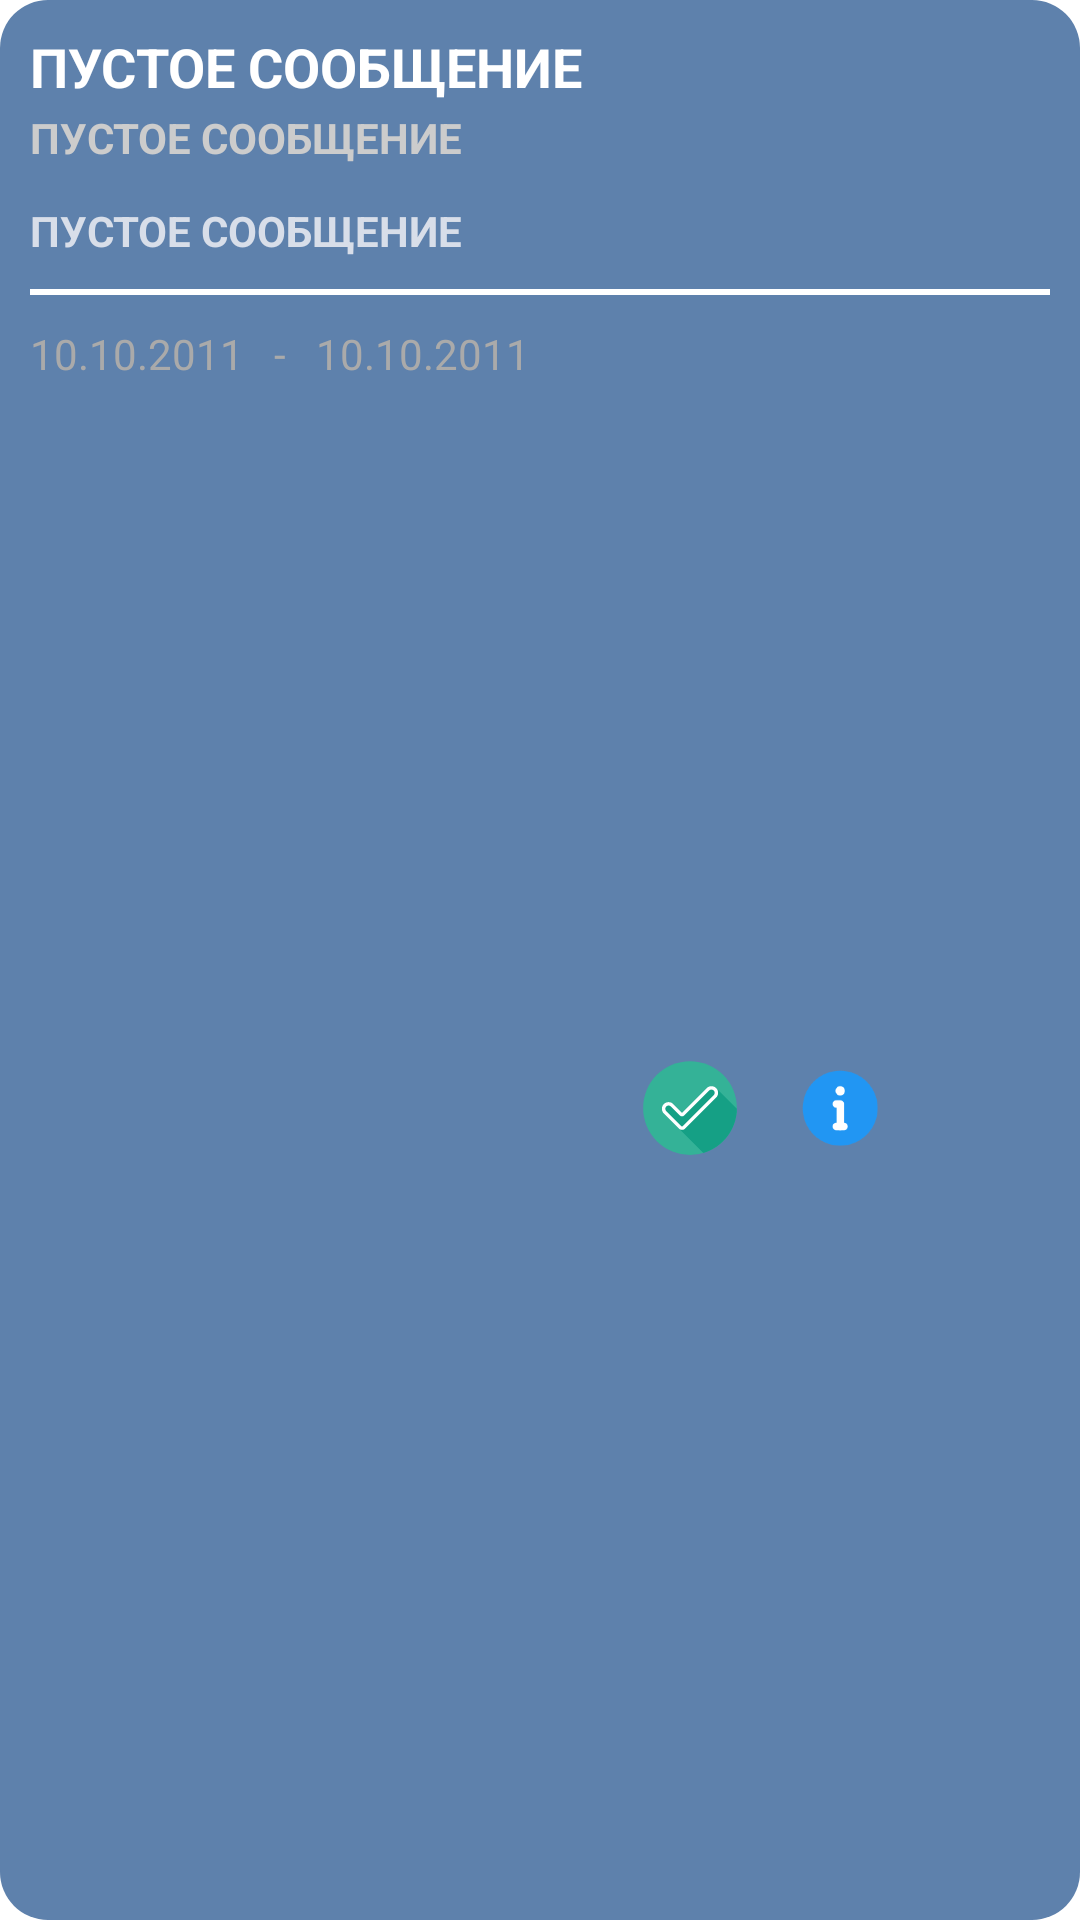

Where to tap for icons on this 1080w x 1920h app screen, as [x,y]:
done: [690,1108]
task info: [840,1108]
